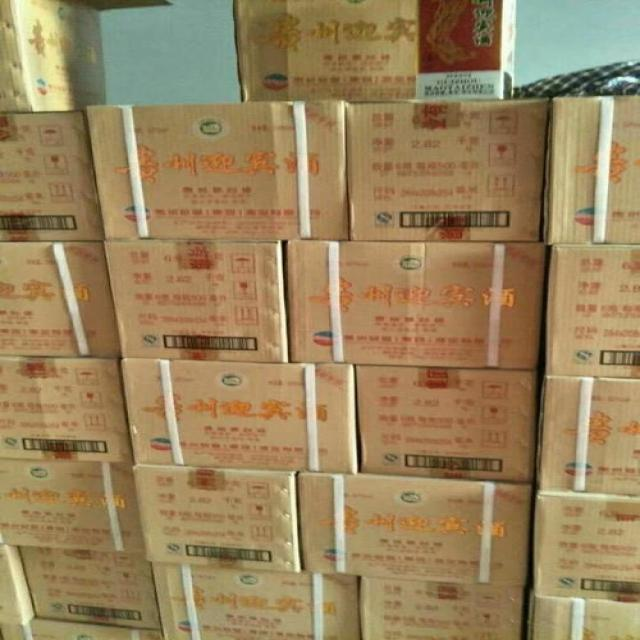box: (88, 96, 351, 240), (285, 240, 547, 367), (346, 97, 553, 244), (118, 356, 357, 474), (298, 469, 535, 585), (106, 240, 285, 362), (353, 364, 539, 481), (132, 464, 301, 572), (152, 562, 360, 640), (0, 356, 132, 465), (0, 460, 147, 557), (548, 94, 640, 245), (0, 112, 105, 243), (0, 241, 115, 356), (545, 245, 640, 378), (530, 490, 640, 601), (538, 376, 640, 495), (17, 547, 156, 629), (361, 577, 527, 640), (522, 595, 640, 640), (1, 616, 156, 640), (0, 546, 36, 626), (64, 0, 170, 9)
